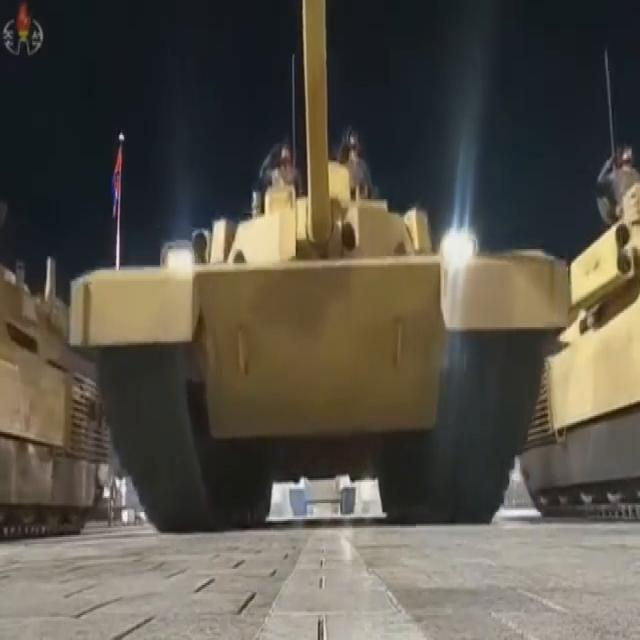north tank: (66, 0, 573, 551), (518, 150, 640, 564)
